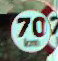Speed limit: (4, 6, 52, 57)
